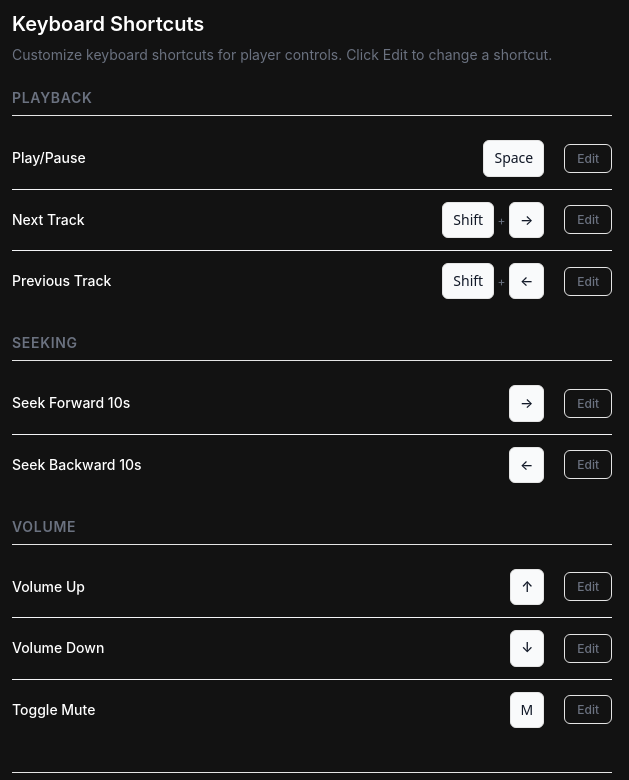
Test: KeyboardShortcutsSettings › edit mode › should show recording message when editing
Click the button "Edit" next to "Space" at (588, 158), box [564,144,612,173]
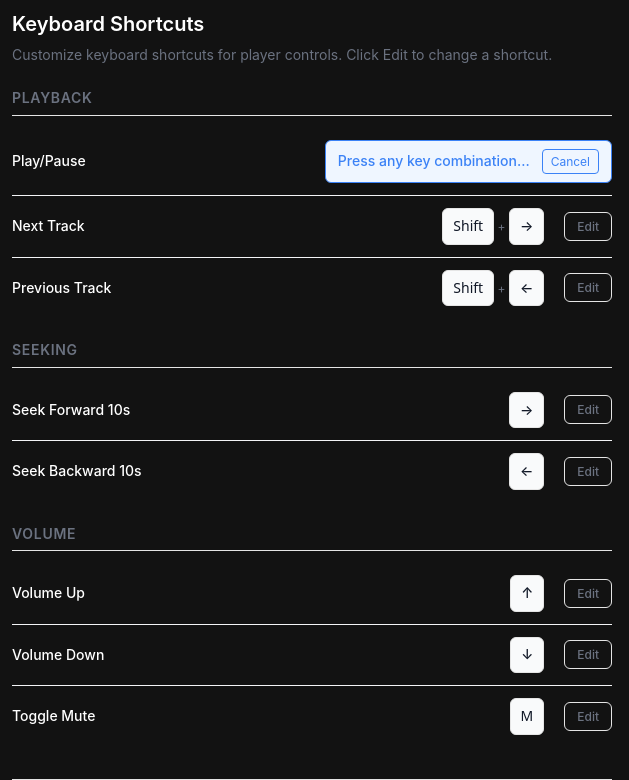
Result: the text "Press any key combination..." is shown at [338,150,530,173]
